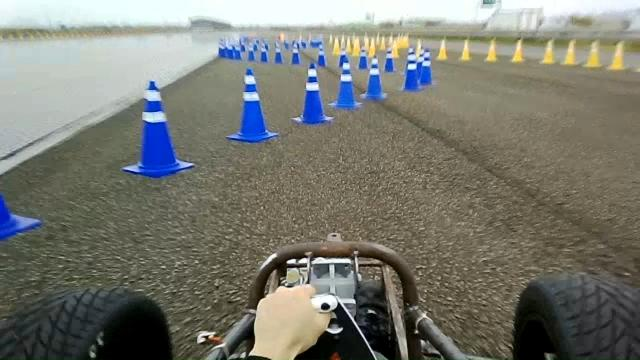blue cone: (121, 79, 195, 178), (226, 67, 278, 143), (291, 62, 333, 124), (0, 192, 42, 240), (328, 61, 362, 109), (359, 57, 387, 100), (400, 45, 422, 92), (419, 48, 435, 85)
